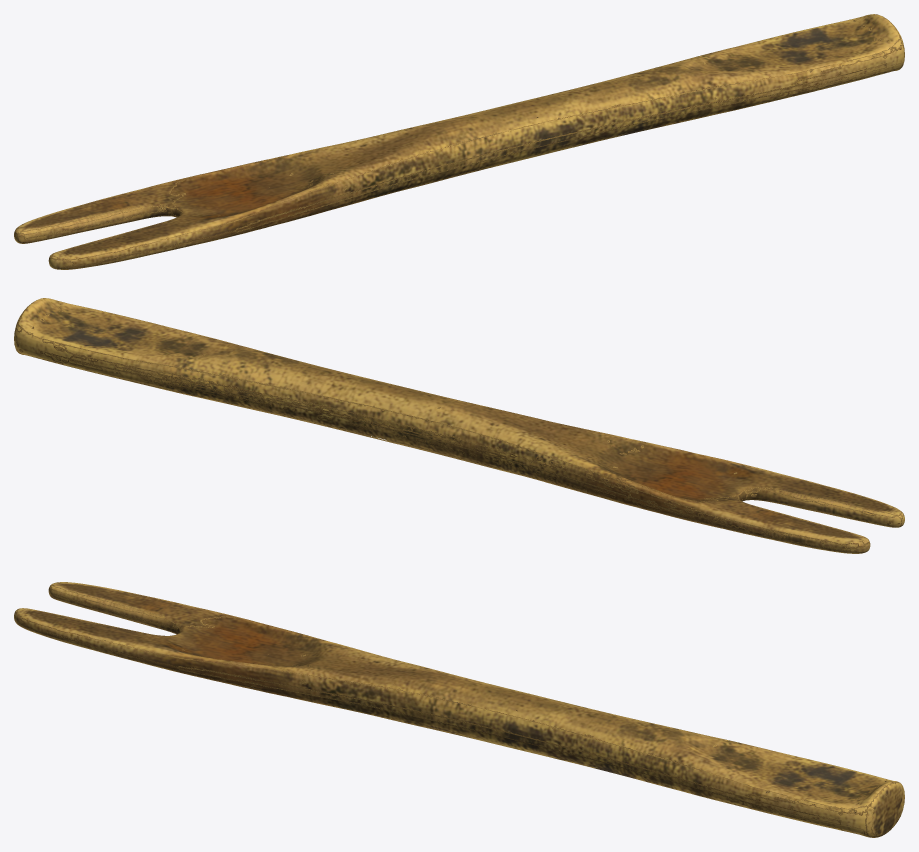
3 views of the same model, one above another, from view 1: azimuth 30°, elevation 25°; view 2: azimuth 150°, elevation 25°; view 3: azimuth 330°, elevation 25° (orthographic).
Size of the model in its own units: 1.99 by 0.1105 by 0.24.
Materials: 1 (1 with a texture image).
